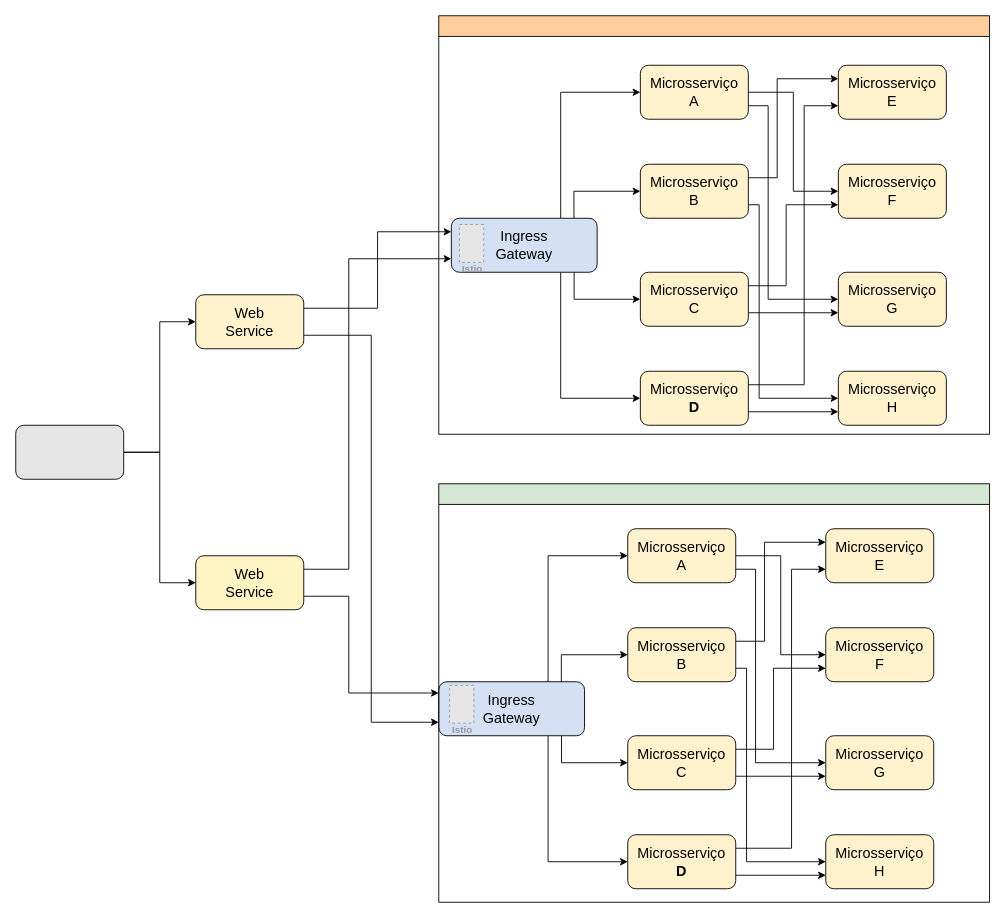
This 1005x918 diagram has some shape labels left out. Grey dashed boxes stand in for pictures. Each missing label, with the box of its shape:
Cloud: (438, 15, 990, 434)
Network Load Balance: (15, 424, 124, 479)
Onpremises: (438, 483, 990, 902)
